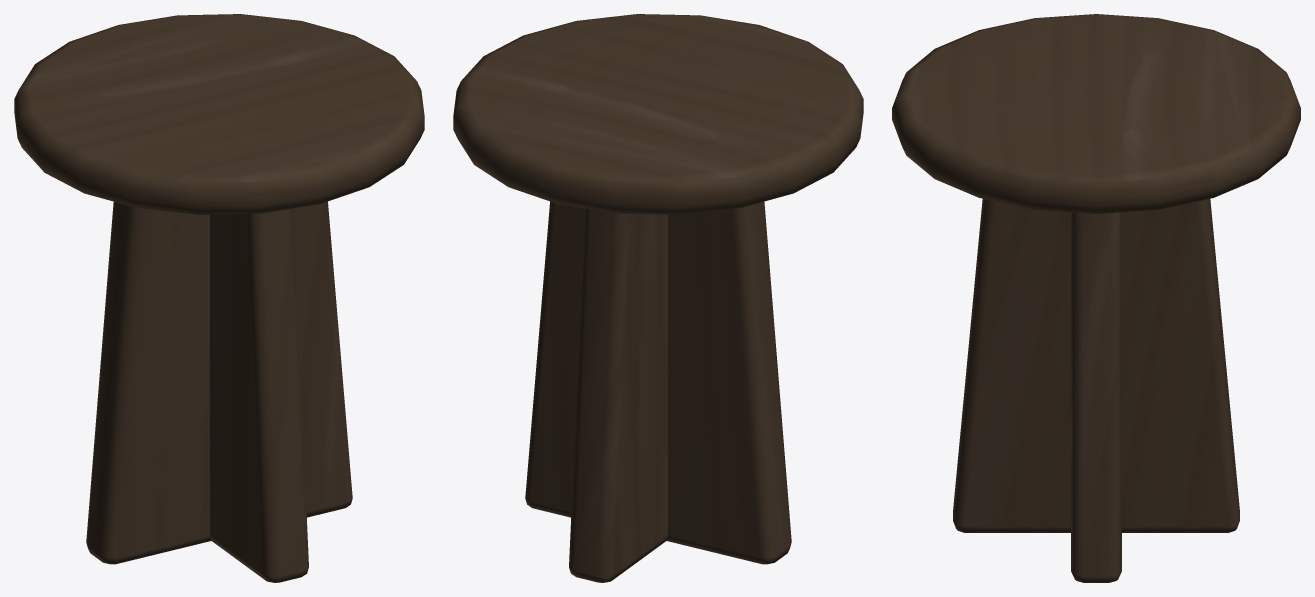
Rendered from Table.obj.
3 views of the same model, side by side, from view 1: azimuth 30°, elevation 25°; view 2: azimuth 150°, elevation 25°; view 3: azimuth 270°, elevation 25° (orthographic).
Visible parts, largest first — view 1: Table_LegSG, Table_TopSG; view 2: Table_LegSG, Table_TopSG; view 3: Table_LegSG, Table_TopSG.
Boxes of the visible parts, <box> form: Table_LegSG: <box>86,201,352,582</box>; Table_TopSG: <box>14,14,424,214</box>; Table_LegSG: <box>525,201,791,582</box>; Table_TopSG: <box>453,14,863,214</box>; Table_LegSG: <box>953,198,1239,582</box>; Table_TopSG: <box>892,14,1300,213</box>.
Size of the model in its own units: 3.49 by 4.07 by 3.49.
2 materials, 2 textured.
